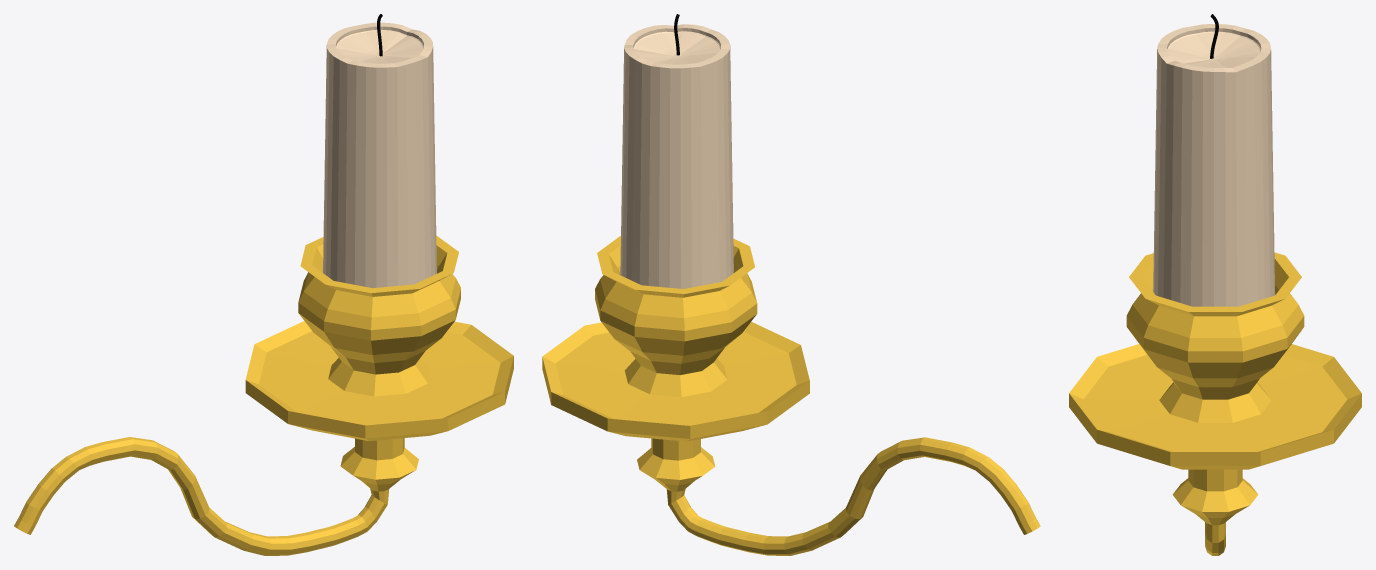
Rendered from Candlestick-Part.fbx.
The picture shows the model from 3 angles, left to right: view 1: azimuth 30°, elevation 25°; view 2: azimuth 150°, elevation 25°; view 3: azimuth 270°, elevation 25°; orthographic projection. The views are drawn at different scales.
Parts seen in each view (by area): view 1: DETACH, pd; view 2: DETACH, pd; view 3: DETACH, pd.
Boxes of the visible parts, box(x1,y1,x2,y2) form: DETACH: box(14, 235, 513, 555); pd: box(323, 22, 436, 287); DETACH: box(542, 236, 1040, 555); pd: box(620, 24, 733, 288); DETACH: box(1069, 252, 1361, 555); pd: box(1153, 24, 1275, 306).
Size of the model in its own units: 137 by 143 by 68.3.
